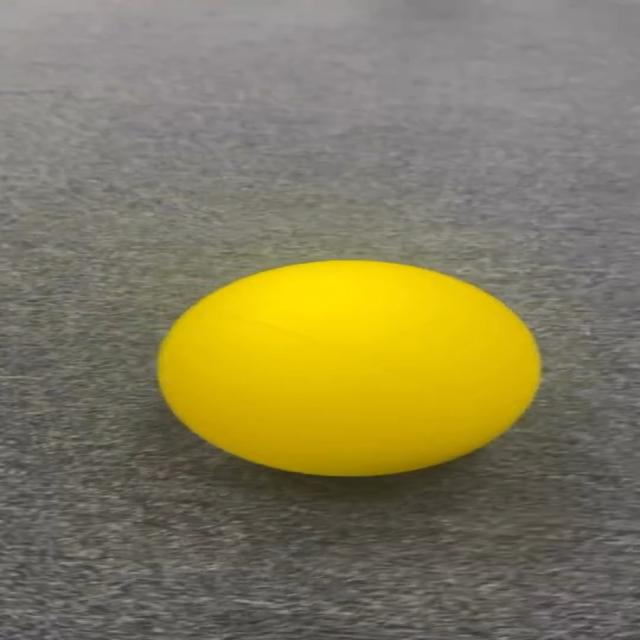Fuels: (156, 256, 536, 472)
